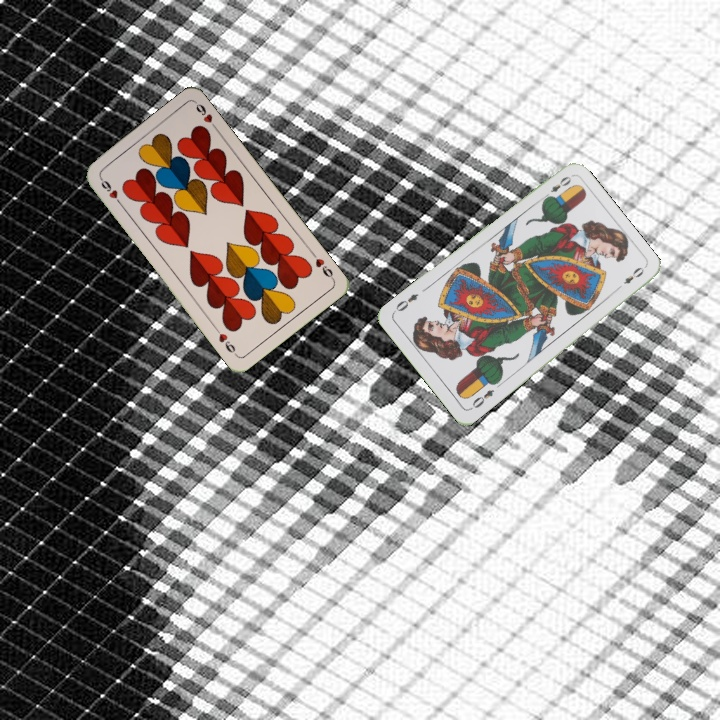EO: (539, 172, 574, 202), (466, 385, 497, 412)
H9: (307, 248, 336, 283), (96, 173, 125, 208)
